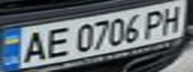0: (72, 20, 96, 53), (109, 15, 130, 47)
6: (121, 11, 148, 43)
7: (90, 17, 112, 50)
A: (15, 28, 51, 64)
E: (36, 25, 75, 60)
H: (154, 2, 190, 35)
P: (139, 7, 172, 38)
